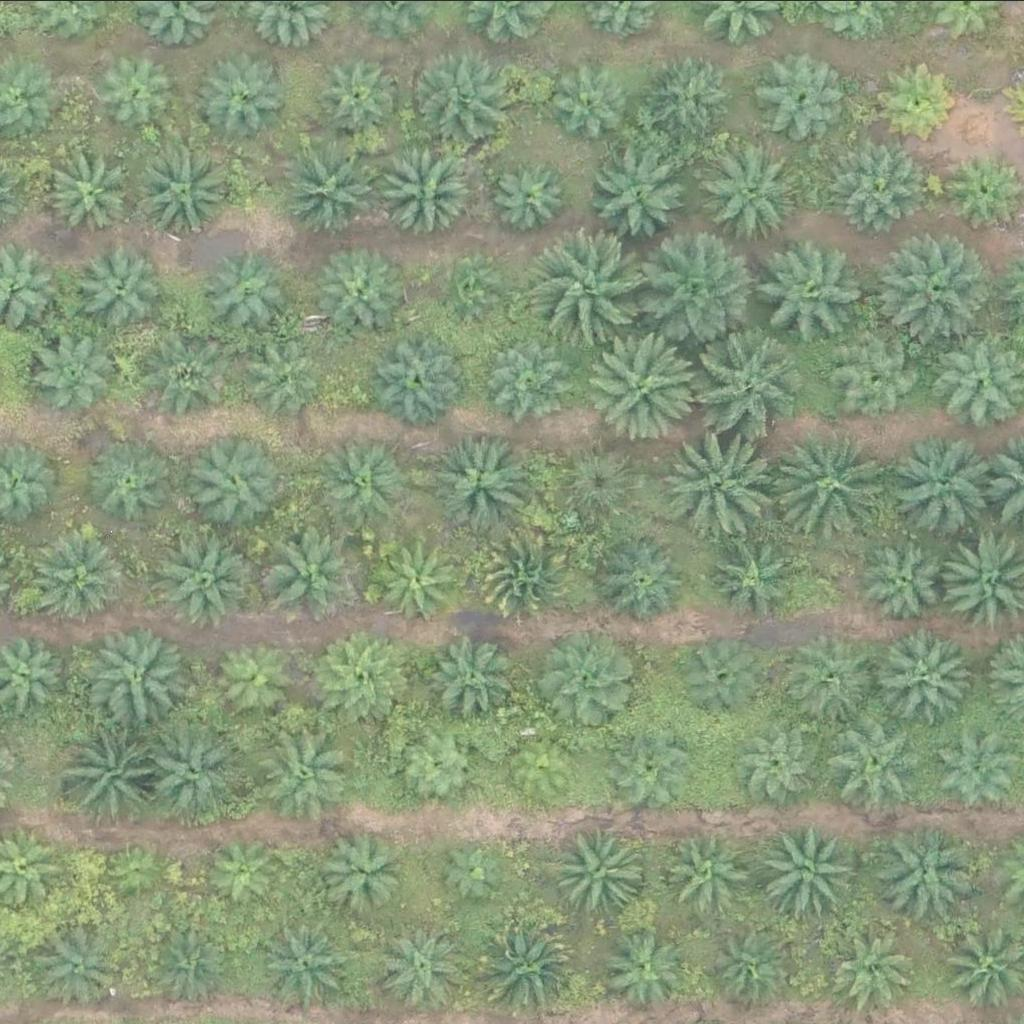Kelapa_Sawit: (667, 428, 781, 541), (644, 233, 757, 346), (754, 232, 867, 345), (877, 231, 990, 344), (690, 322, 803, 435), (586, 326, 699, 439), (781, 432, 894, 545), (534, 227, 648, 339), (410, 52, 511, 152), (698, 143, 799, 243), (370, 325, 471, 425), (427, 433, 528, 533), (897, 436, 998, 536), (873, 820, 974, 920), (477, 913, 578, 1013), (147, 716, 248, 816), (261, 720, 362, 820), (308, 623, 409, 723), (84, 620, 185, 720), (256, 524, 357, 624), (30, 521, 131, 621), (179, 431, 280, 531), (312, 433, 413, 533), (138, 139, 239, 239), (278, 136, 379, 236), (377, 138, 477, 238), (593, 144, 693, 244), (539, 629, 639, 729), (474, 520, 574, 620), (828, 708, 928, 808), (547, 819, 647, 919), (756, 819, 856, 919), (158, 529, 258, 629), (543, 55, 631, 143), (560, 443, 648, 531), (676, 631, 764, 719), (706, 538, 794, 626), (491, 334, 579, 422), (376, 538, 464, 626), (599, 533, 687, 621), (856, 533, 944, 621), (738, 717, 826, 805), (603, 927, 691, 1015), (827, 922, 915, 1010), (260, 920, 348, 1008), (90, 437, 178, 525), (34, 323, 122, 411), (148, 330, 236, 418), (78, 241, 166, 329), (207, 249, 295, 337), (397, 720, 485, 808), (38, 919, 127, 1006), (648, 53, 736, 140), (828, 143, 916, 230), (759, 56, 847, 143), (837, 331, 925, 418), (427, 639, 515, 726), (785, 633, 873, 720), (609, 725, 697, 812), (886, 630, 974, 717), (657, 823, 745, 910), (706, 917, 794, 1004), (374, 917, 462, 1004), (144, 927, 232, 1014), (321, 828, 409, 915), (83, 730, 171, 817), (510, 729, 598, 816), (207, 631, 295, 718), (243, 333, 331, 420), (323, 243, 411, 330), (51, 145, 139, 232), (315, 50, 403, 137), (197, 50, 285, 137), (93, 43, 181, 130), (493, 158, 569, 233), (99, 830, 175, 905), (202, 833, 278, 908), (434, 832, 509, 907), (944, 149, 1019, 224), (880, 59, 955, 134), (437, 260, 500, 322)
